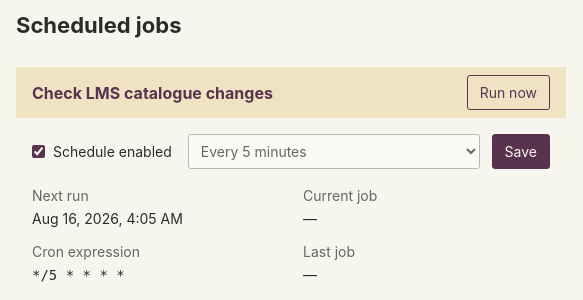
Scenario: operational history views › edits, saves, and reloads an interval schedule
Step 1. Select "Every 10 minutes" in the dropdown named "Check LMS catalogue changes interval" → coordinates (334, 152), box [188,134,480,169]
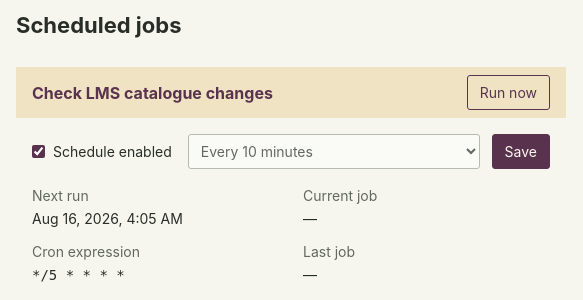
Step 2. Submit the form, box [32,134,550,169]
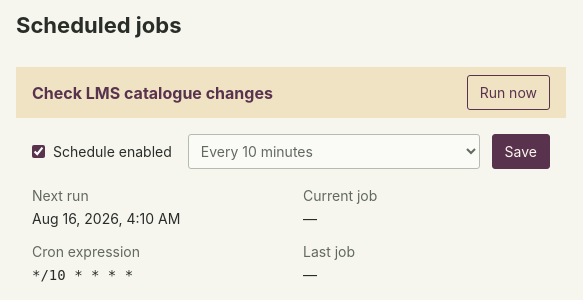
Expected: the text "*/10 * * * *" is shown, [32,267,133,283]
